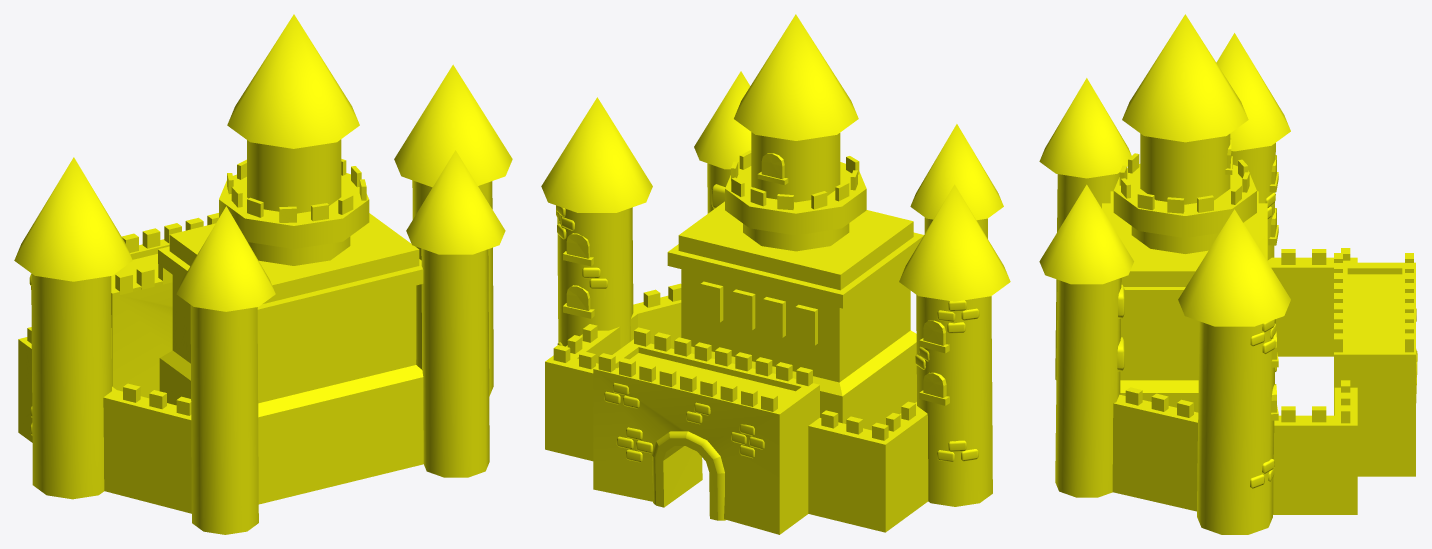
3 views of the same model, side by side, from view 1: azimuth 30°, elevation 25°; view 2: azimuth 150°, elevation 25°; view 3: azimuth 270°, elevation 25° (orthographic). The views are drawn at different scales.
Visible parts, largest first — view 1: laudai; view 2: laudai; view 3: laudai.
Part boxes in pixels (x1,y1,x2,y2): laudai: (14, 14, 512, 534); laudai: (541, 14, 1010, 534); laudai: (1039, 14, 1417, 534).
Size of the model in its own units: 10.95 by 9.67 by 7.87.
Materials: 1 (1 with a texture image).
